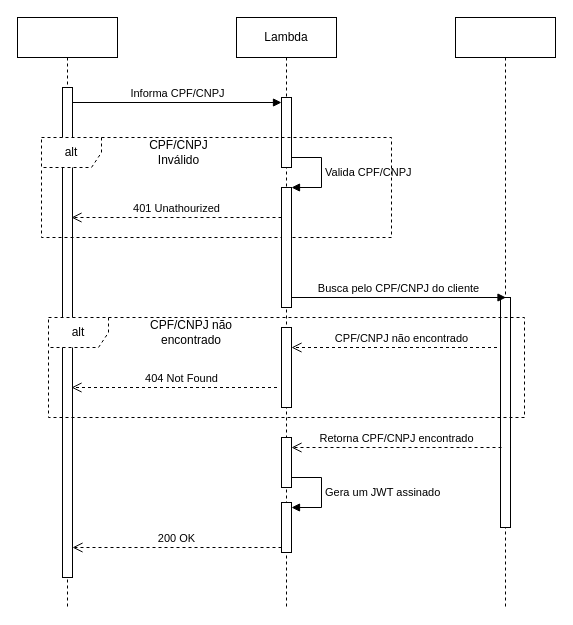
The diagram is 573 pixels wide and 625 high, and some of its shapes have lost their labels. Each missing label, with the centre of its shape:
Banco de dados: pixel 505 312
Usuário: pixel 67 312
